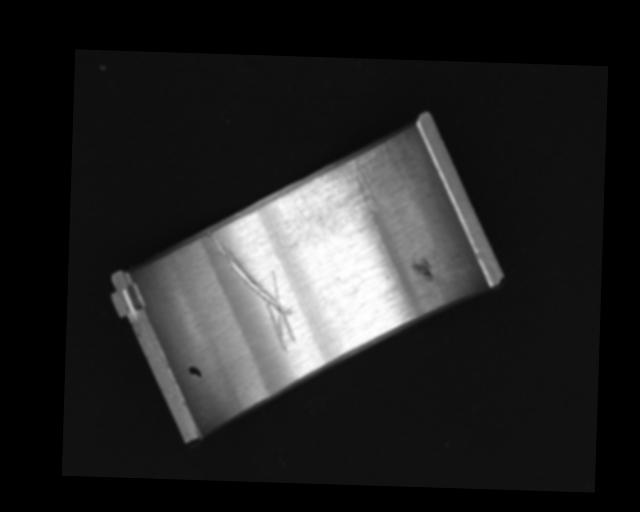blot: (186, 365, 202, 379)
bruise: (412, 257, 435, 280)
nick: (204, 232, 301, 354)
scratch: (292, 143, 391, 234)
